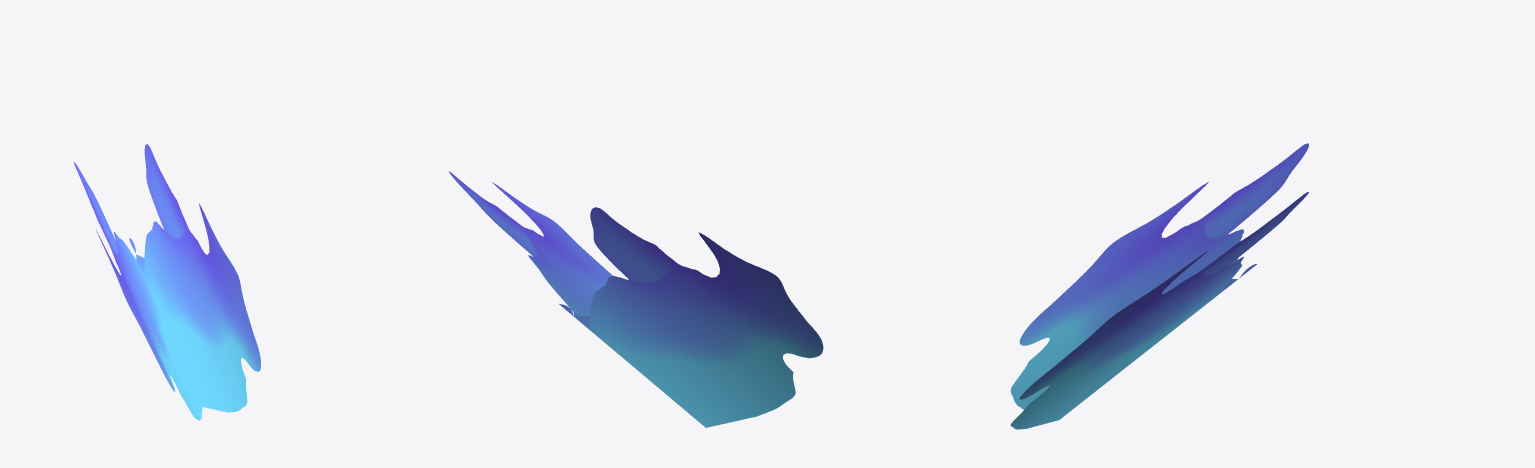
File: jixiehu_zs1_002.FBX
The picture shows the model from 3 angles, left to right: view 1: azimuth 30°, elevation 25°; view 2: azimuth 150°, elevation 25°; view 3: azimuth 270°, elevation 25°; orthographic projection. The views are drawn at different scales.
Visible parts, largest first — view 1: jixiehu_zs1_002; view 2: jixiehu_zs1_002; view 3: jixiehu_zs1_002.
Part boxes in pixels (x1,y1,x2,y2): jixiehu_zs1_002: (74, 144, 260, 420); jixiehu_zs1_002: (449, 171, 823, 427); jixiehu_zs1_002: (1010, 143, 1308, 429).
Bounding box in the file's own units: 15.45 × 30.39 × 44.69.
1 material, 1 textured.
